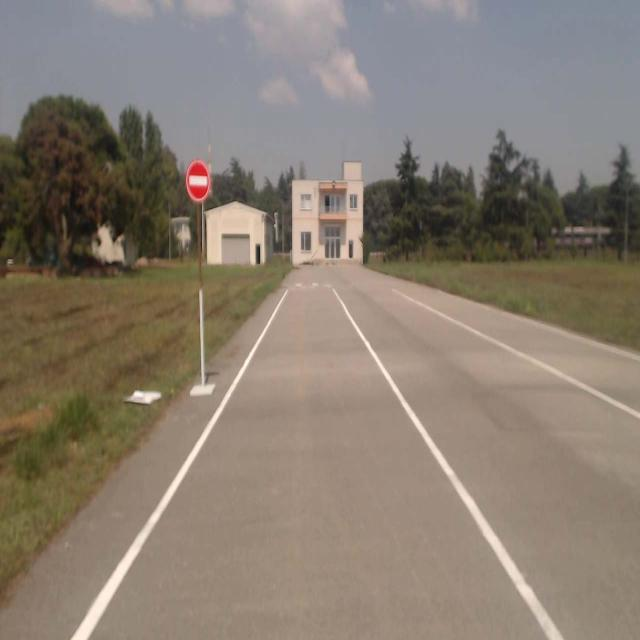girisyok: (186, 160, 212, 202)
